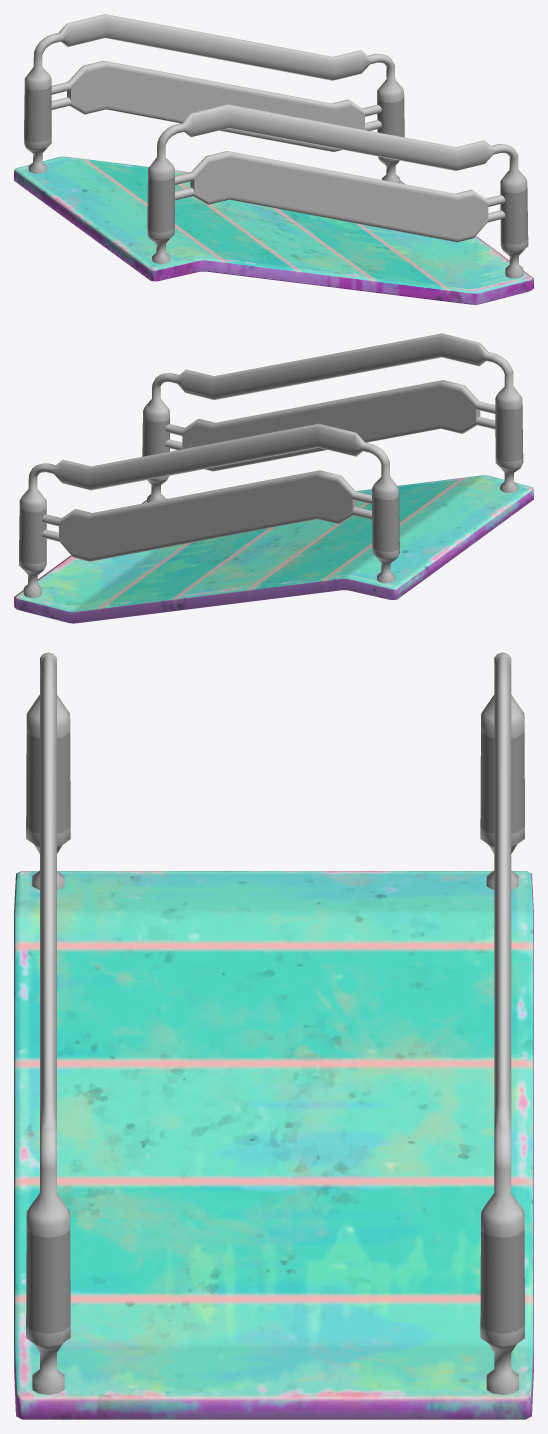
The model's file is ramp.fbx.
3 views of the same model, one above another, from view 1: azimuth 30°, elevation 25°; view 2: azimuth 150°, elevation 25°; view 3: azimuth 270°, elevation 25° (orthographic). The views are drawn at different scales.
Visible parts, largest first — view 1: ramp, fence2, fence5; view 2: ramp, fence5, fence2; view 3: ramp, fence5, fence2.
Boxes of the visible parts, x1,y1,x2,y2 form: ramp: (14, 156, 533, 304); fence2: (147, 104, 528, 278); fence5: (24, 14, 404, 183); ramp: (14, 475, 533, 623); fence5: (18, 423, 399, 597); fence2: (142, 333, 523, 502); ramp: (14, 871, 533, 1419); fence5: (480, 652, 524, 1394); fence2: (26, 652, 70, 1394).
Bounding box in the file's own units: 369 × 233 × 235.
